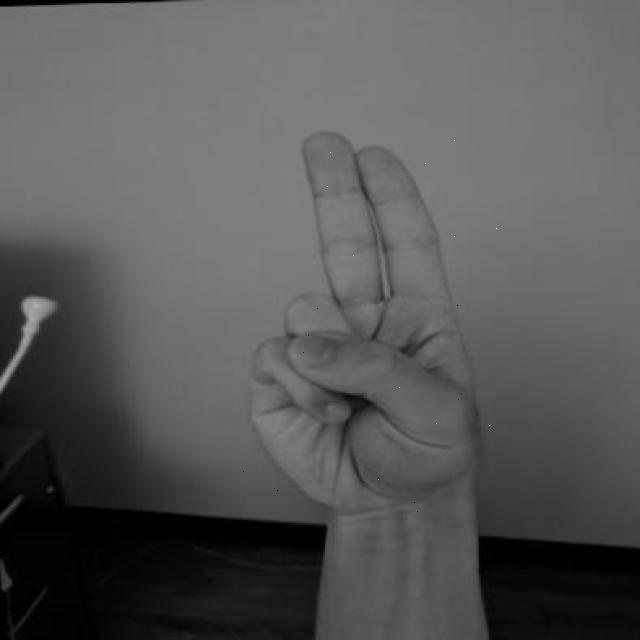U: (227, 120, 499, 518)
